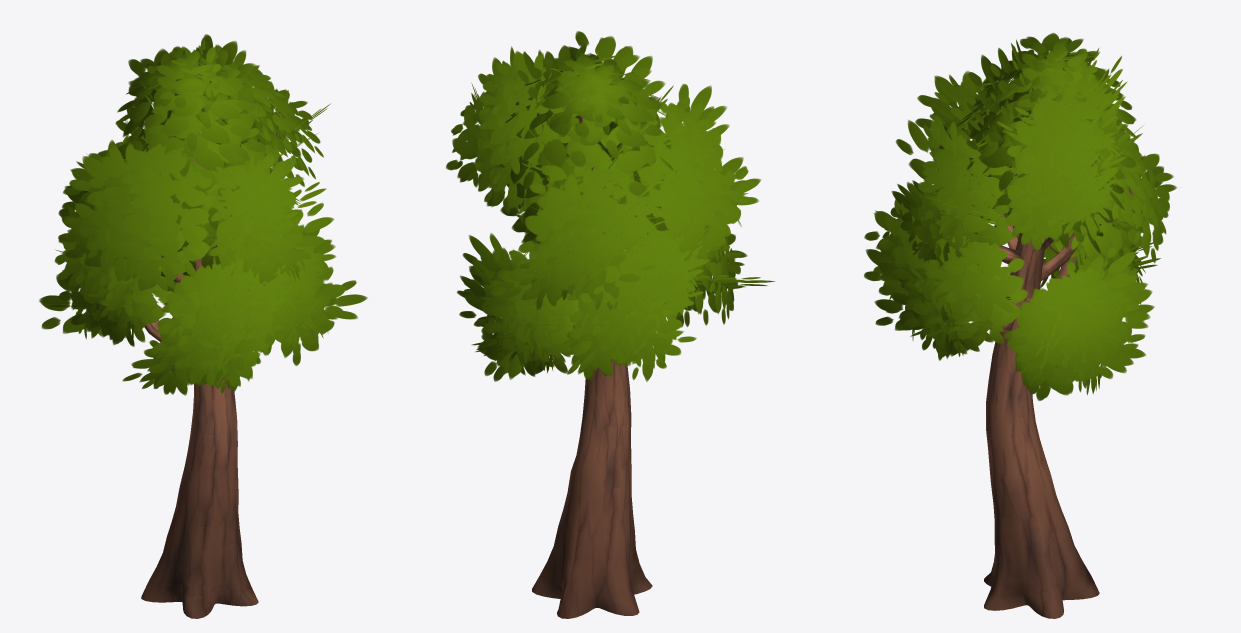
Rendered from tree.glb.
3 renders of one model, left to right at view 1: azimuth 30°, elevation 25°; view 2: azimuth 150°, elevation 25°; view 3: azimuth 270°, elevation 25°, orthographic. The views are drawn at different scales.
Visible parts, largest first — view 1: CommonTree_1; view 2: CommonTree_1; view 3: CommonTree_1.
Part boxes in pixels (bbox=[...]): CommonTree_1: bbox=[39, 34, 367, 618]; CommonTree_1: bbox=[446, 31, 775, 618]; CommonTree_1: bbox=[864, 33, 1176, 618].
Size of the model in its own units: 4.31 by 7.26 by 4.58.
Materials: 2 (2 with a texture image).
